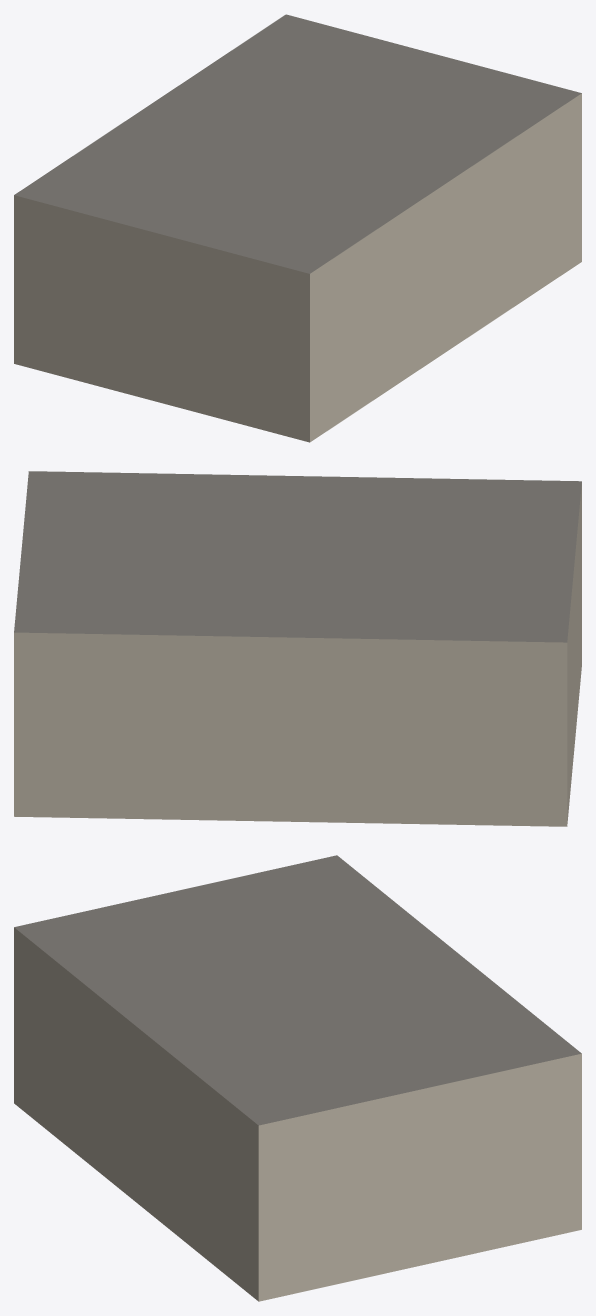
3 renders of one model, top to bottom at view 1: azimuth 30°, elevation 25°; view 2: azimuth 150°, elevation 25°; view 3: azimuth 270°, elevation 25°, orthographic. The views are drawn at different scales.
Visible parts, largest first — view 1: HP-w1287050297; view 2: HP-w1287050297; view 3: HP-w1287050297.
Part boxes in pixels (x1,y1,x2,y2): HP-w1287050297: (14, 14, 581, 442); HP-w1287050297: (14, 471, 581, 826); HP-w1287050297: (14, 855, 581, 1301).
Size of the model in its own units: 59.24 by 18 by 52.6.
